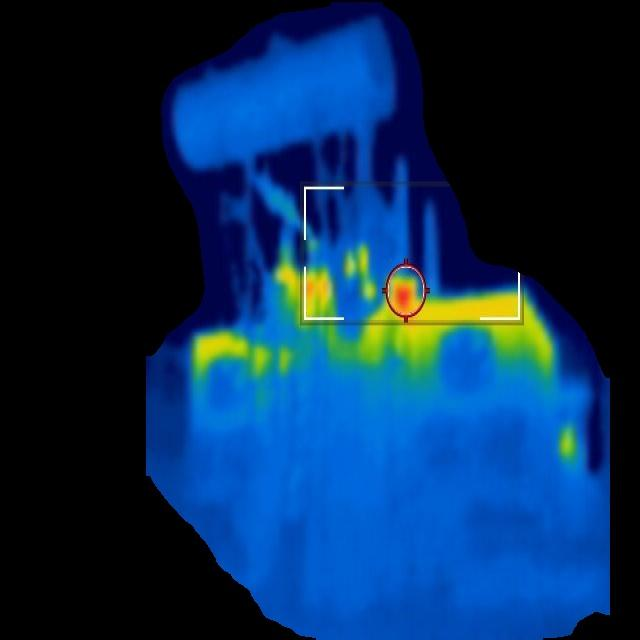Loose Joint F: (391, 258, 427, 312)
Loose Joint PF: (281, 271, 348, 311)
Point Overload PF: (558, 419, 573, 470)
Transformer Overload: (190, 307, 560, 390)
